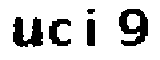9: (115, 7, 149, 49)
c: (48, 17, 74, 48)
i: (83, 4, 99, 51)
u: (9, 11, 44, 50)
